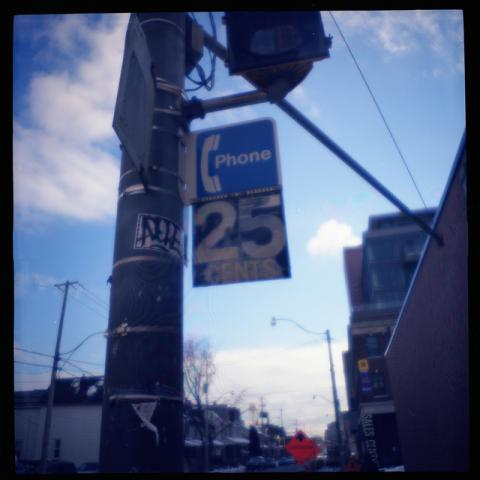car: (181, 420, 245, 474), (246, 455, 266, 471), (78, 461, 99, 475), (265, 457, 276, 468), (278, 457, 290, 466), (318, 452, 328, 458)
